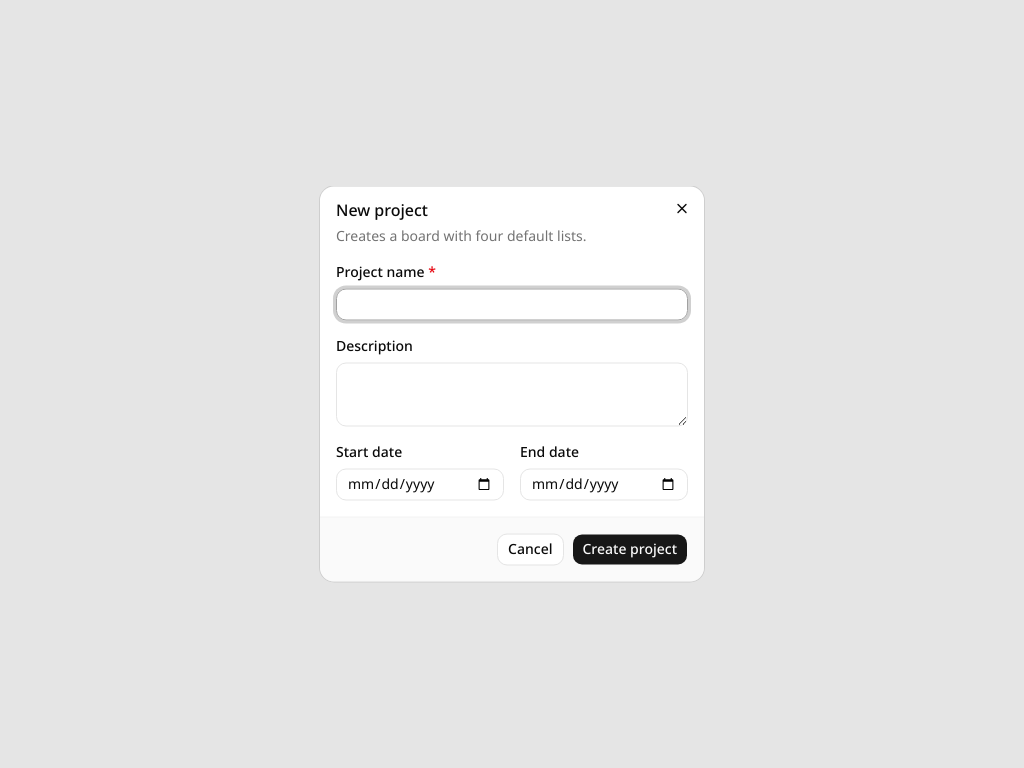
CreateProjectDialog › maps server validation_failed endDate=before_start to field error
Type "Alpha" into the field labelled "Project name *" at [512, 304], box [336,288,688,320]
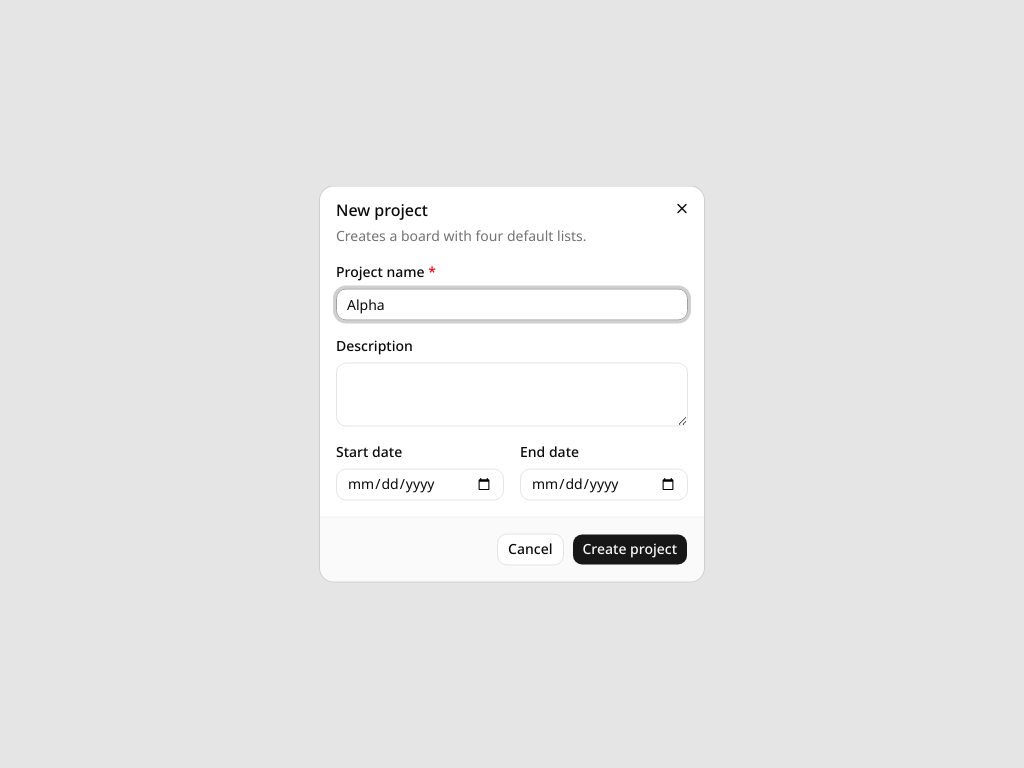
Type "2026-12-10" into the date field labelled "Start date" at [420, 484], box [336,468,504,500]
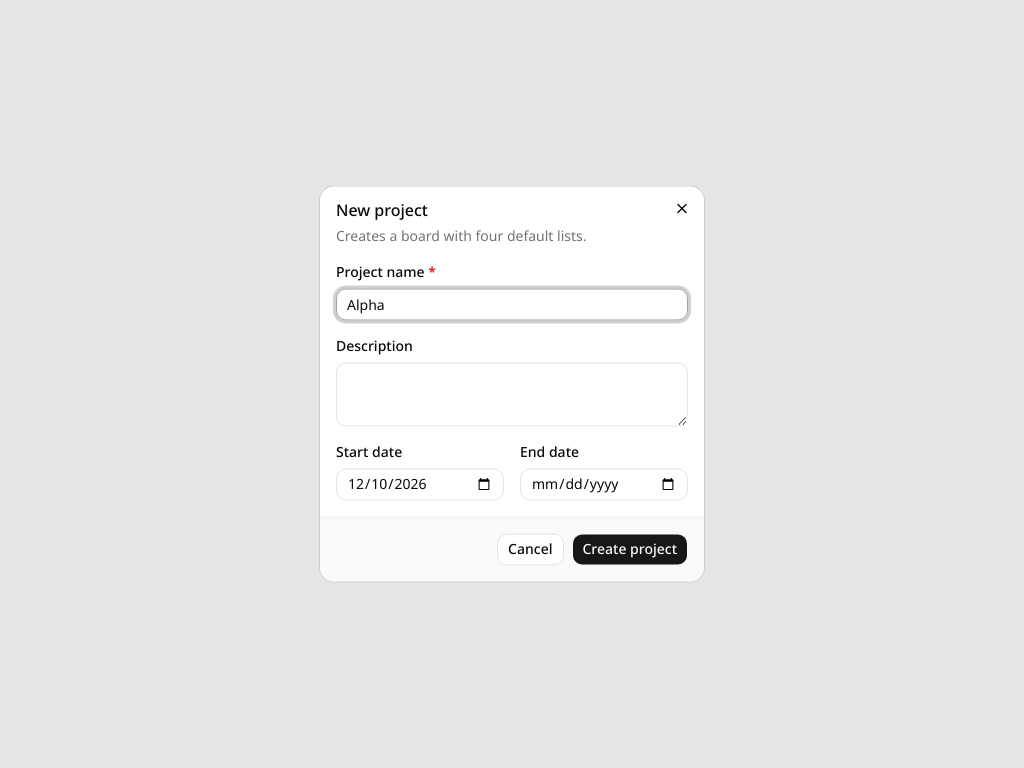
Type "2026-12-01" into the date field labelled "End date" at [604, 484], box [520,468,688,500]
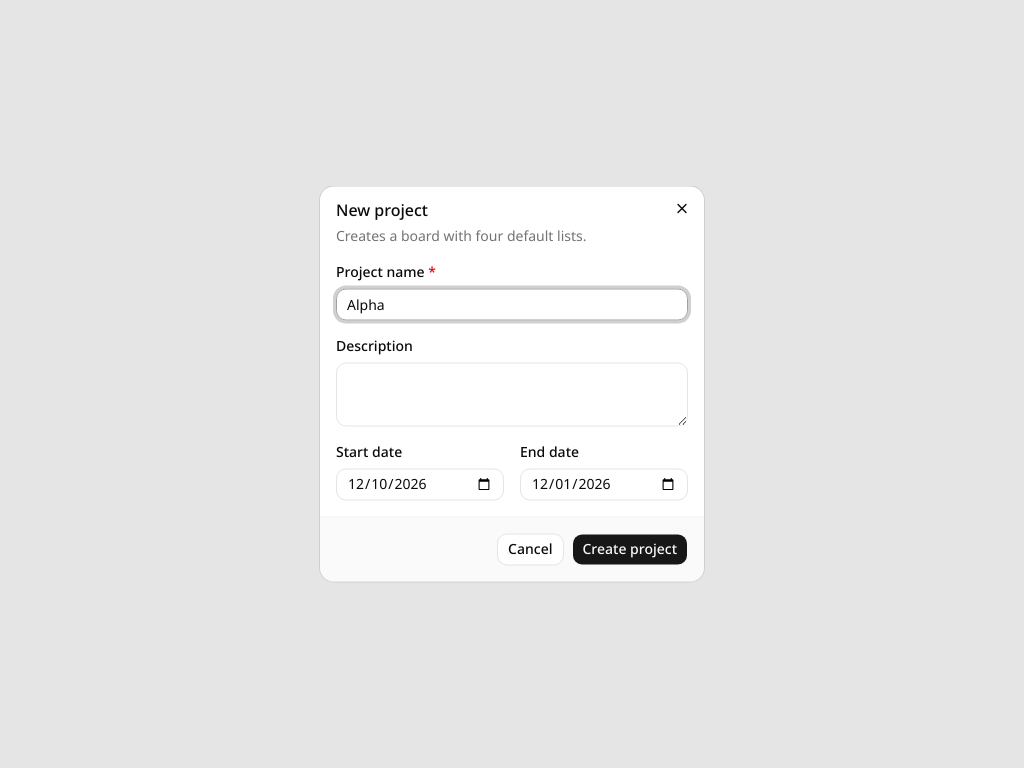
Click the button "Create project" at [630, 550], box [572,534,688,566]
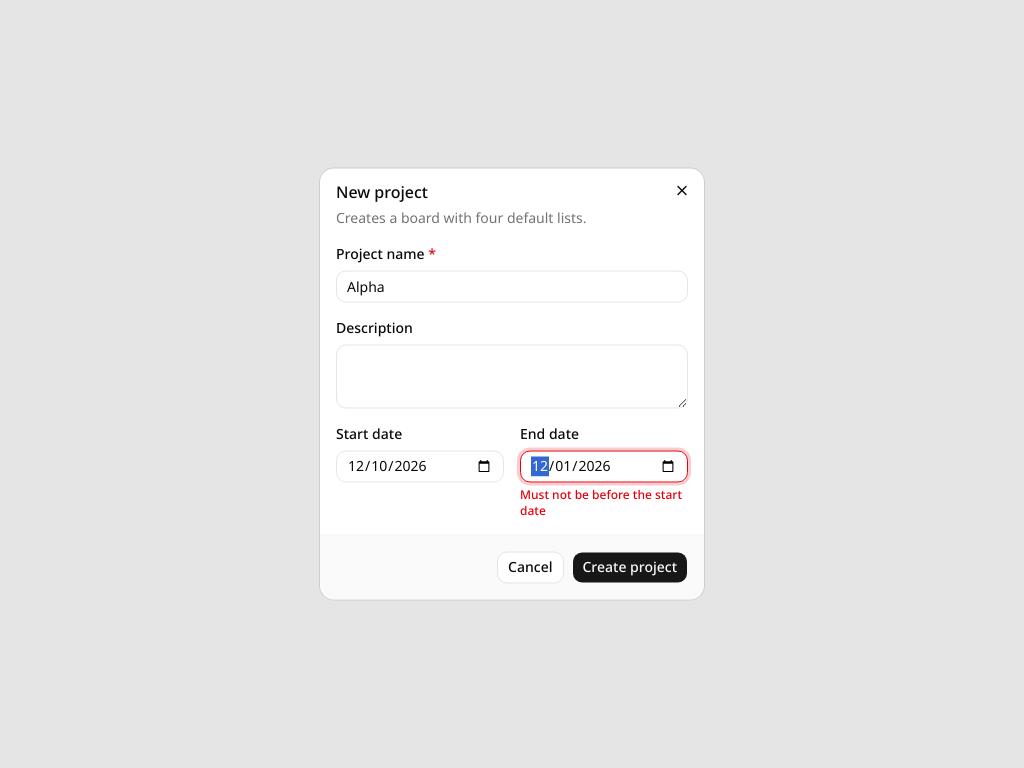
Expected: the message reads "Must not be before the start date", [520,486,682,520]
